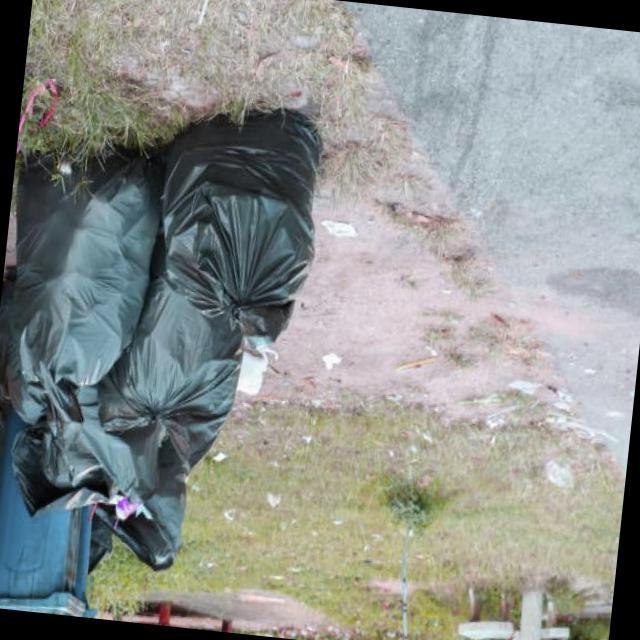high trash: (10, 111, 321, 570)
